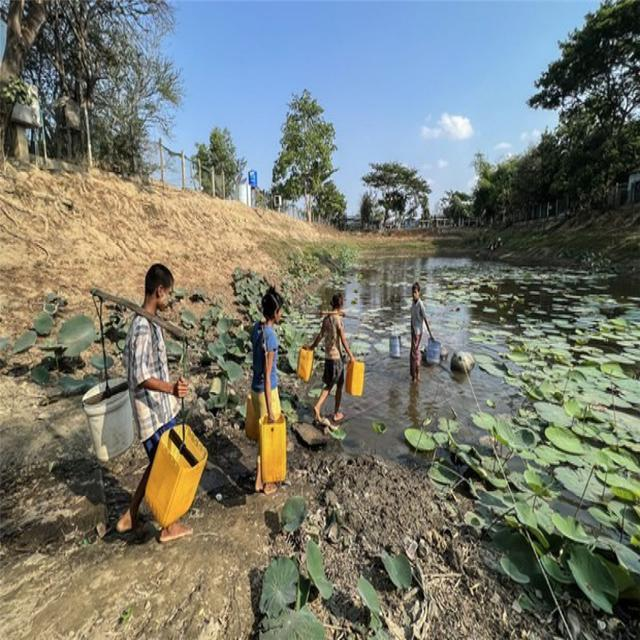Person-RiskLevel1: (107, 262, 197, 548), (228, 283, 297, 502), (309, 293, 361, 423)
Person-RiskLevel2: (391, 276, 436, 390)
